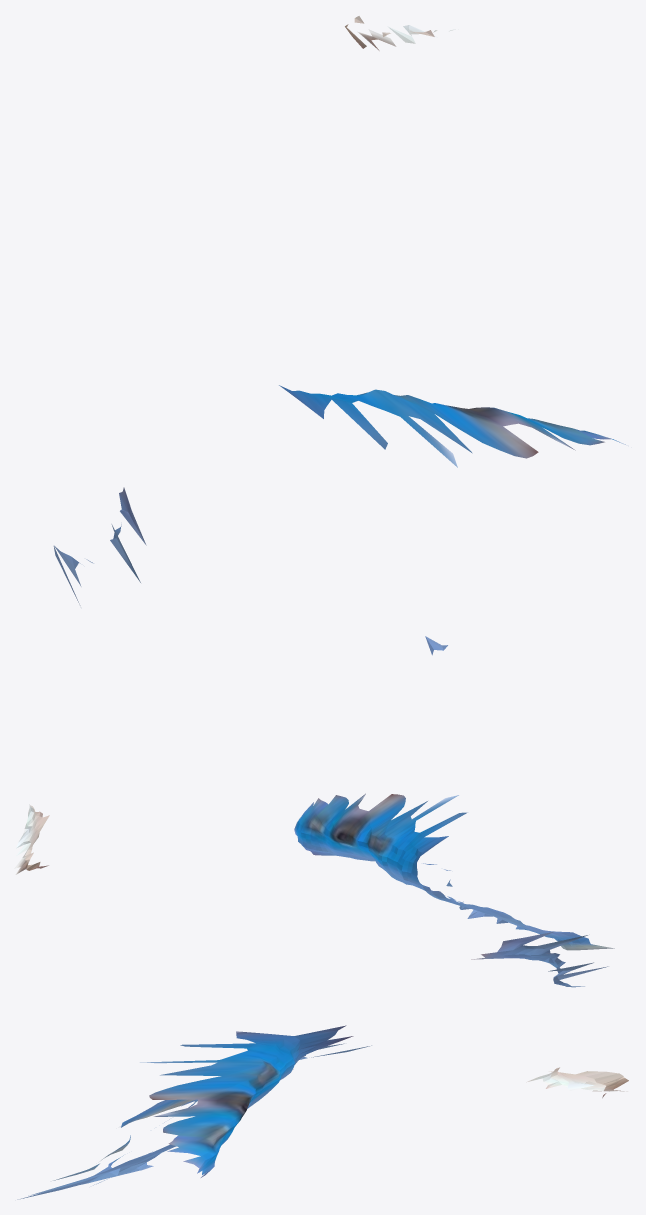
The model's file is observed-surface.glb.
3 renders of one model, top to bottom at view 1: azimuth 30°, elevation 25°; view 2: azimuth 150°, elevation 25°; view 3: azimuth 270°, elevation 25°, orthographic. The views are drawn at different scales.
Visible parts, largest first — view 1: geometry_0; view 2: geometry_0; view 3: geometry_0.
Part boxes in pixels (x1,y1,x2,y2): geometry_0: (53, 16, 625, 655); geometry_0: (14, 793, 614, 987); geometry_0: (17, 1025, 628, 1199).
Size of the model in its own units: 0.7567 by 0.418 by 0.9835.
Materials: 1 (1 with a texture image).
